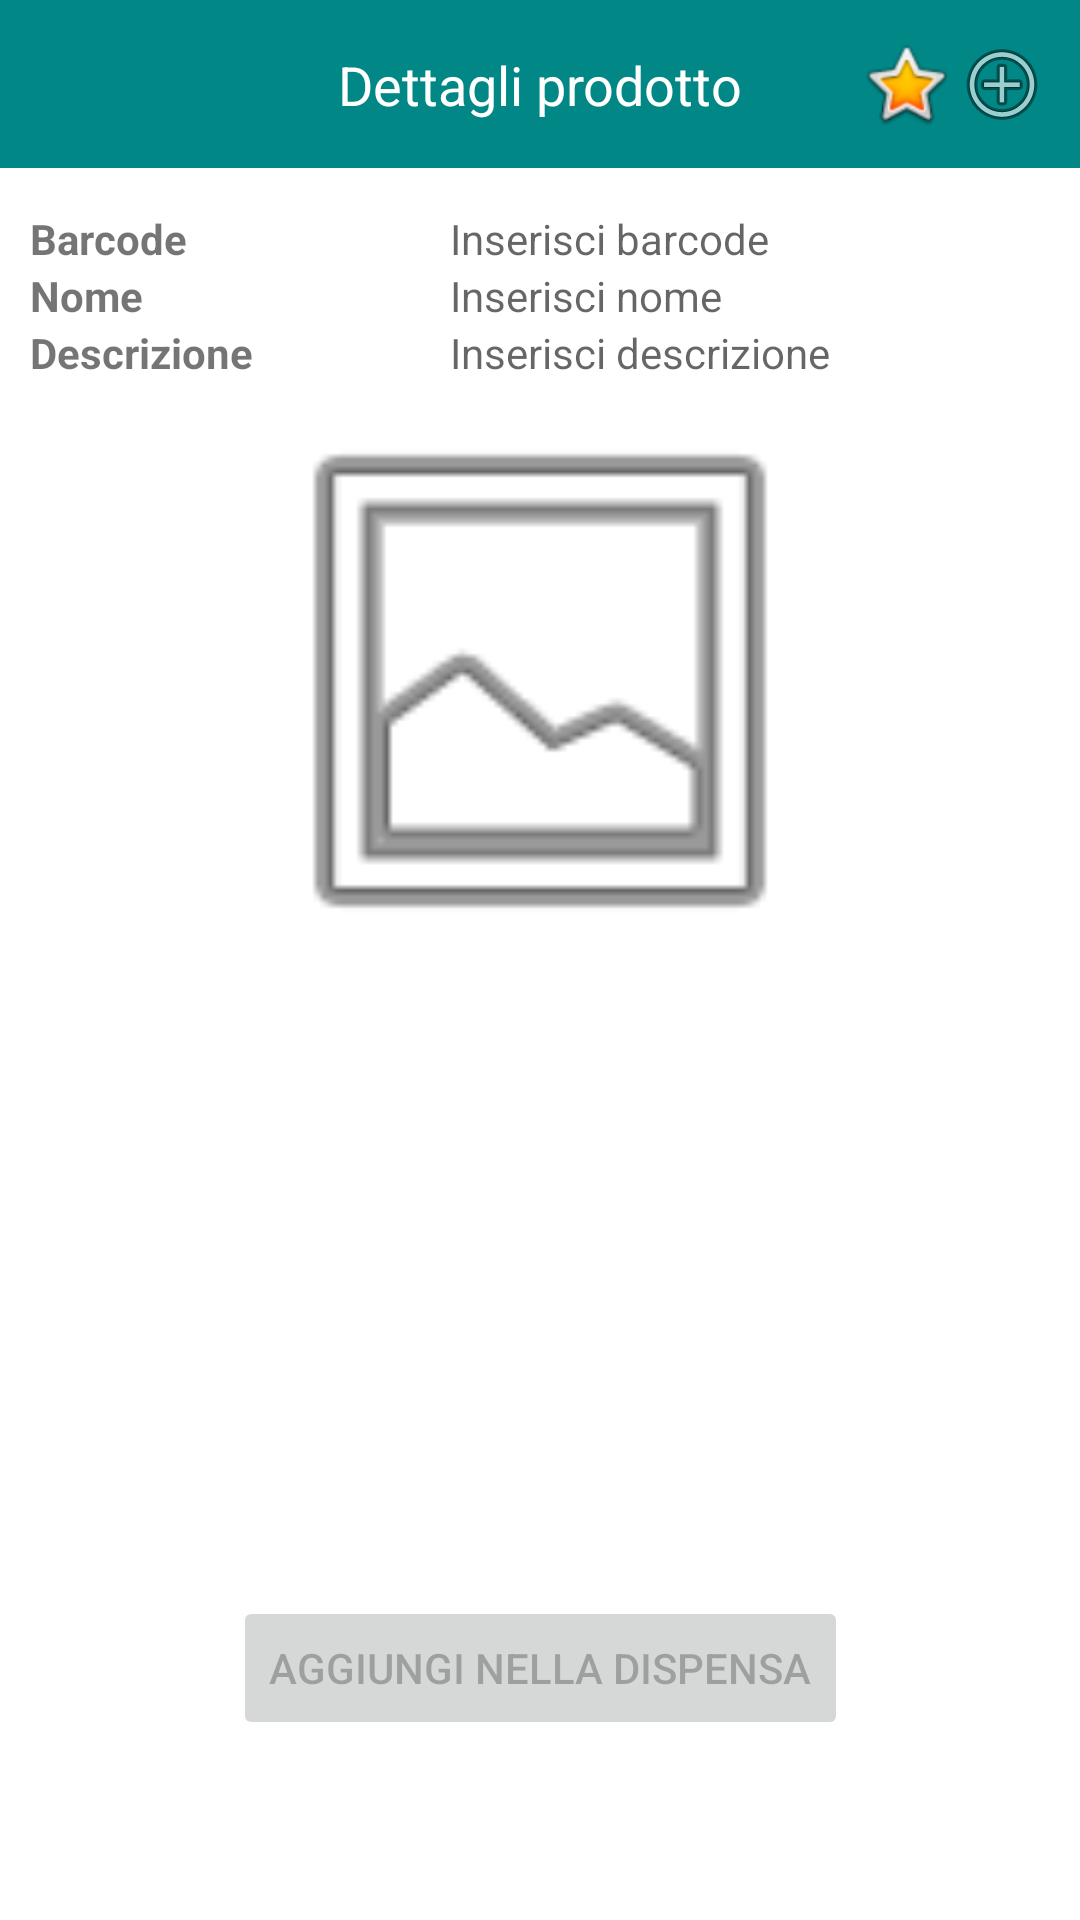

Screen size 1080 x 1920. Icon name, then its box in pixels as (left=x1, top=y1, right=x2, bottom=y2):
add: (left=967, top=49, right=1037, bottom=120)
star on: (left=868, top=47, right=946, bottom=123)
